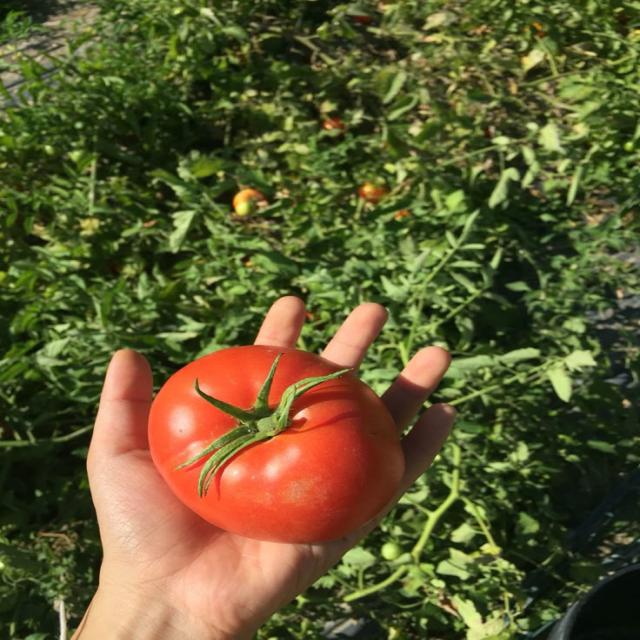tomato: (149, 346, 404, 542), (233, 188, 265, 216), (359, 183, 387, 203), (381, 542, 403, 561), (322, 117, 345, 130), (349, 14, 372, 24), (394, 210, 411, 220), (623, 141, 634, 152)
